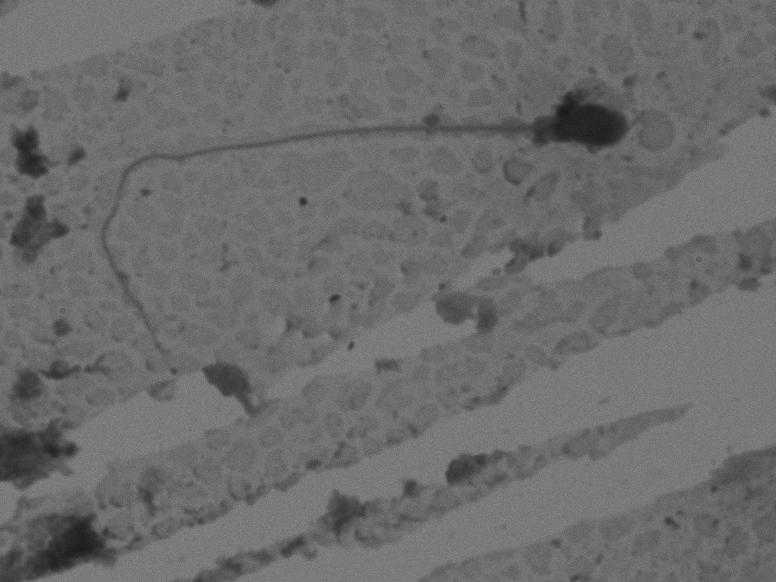Abnormal: (99, 43, 636, 361)
